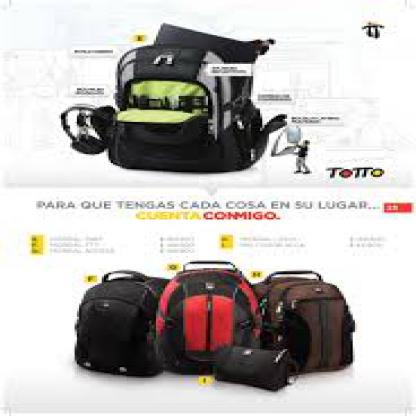morral: (66, 259, 368, 393), (56, 20, 300, 177)
